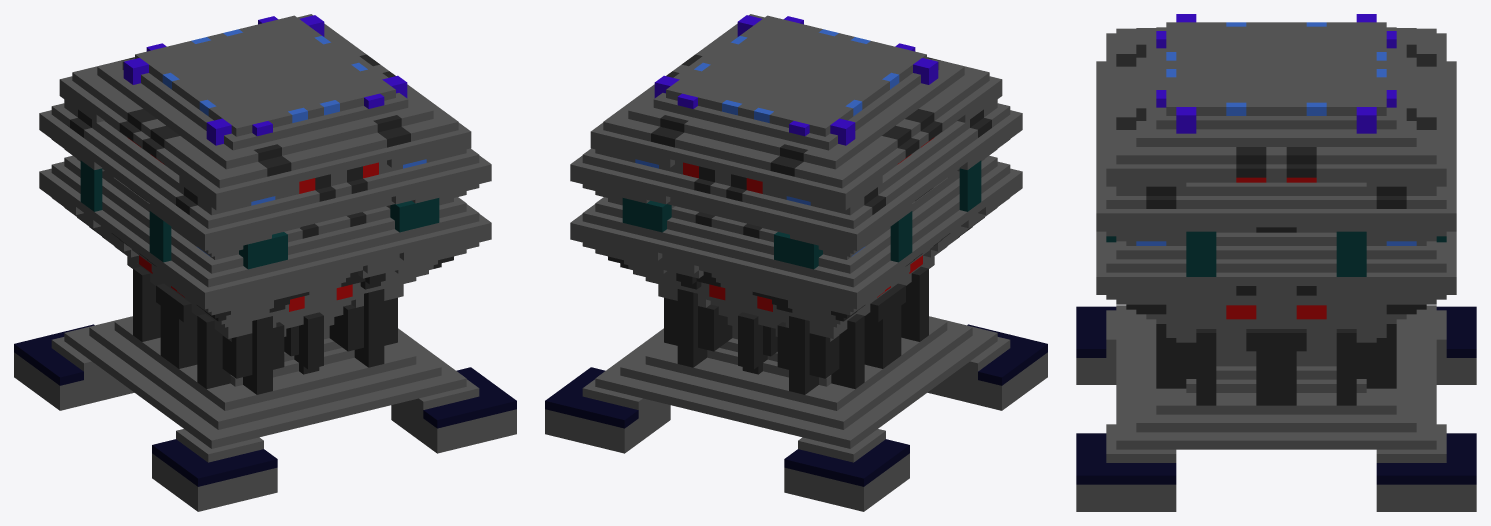
Rendered from MissileBattery-0.obj.
3 views of the same model, side by side, from view 1: azimuth 30°, elevation 25°; view 2: azimuth 150°, elevation 25°; view 3: azimuth 270°, elevation 25° (orthographic). The views are drawn at different scales.
Parts seen in each view (by area): view 1: MissileBattery-0; view 2: MissileBattery-0; view 3: MissileBattery-0.
Boxes of the visible parts, <box> form: MissileBattery-0: <box>14,14,516,511</box>; MissileBattery-0: <box>545,14,1047,511</box>; MissileBattery-0: <box>1076,14,1476,511</box>.
Bounding box in the file's own units: 40 × 40 × 40.
1 material, 1 textured.
